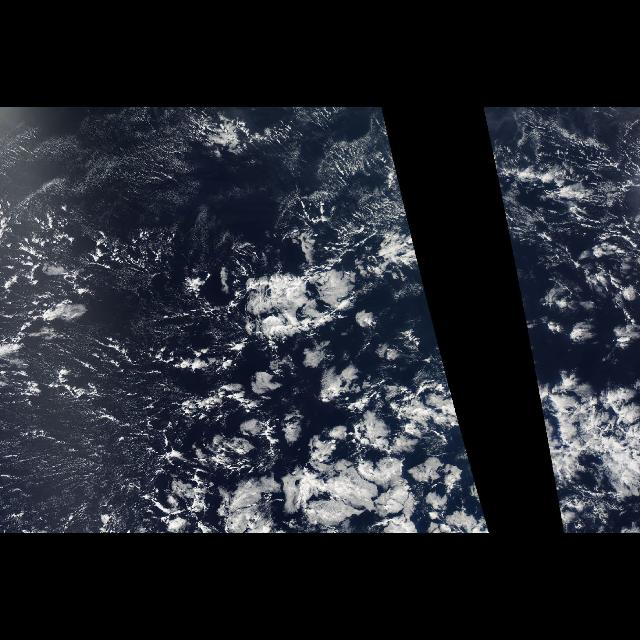Flower: (196, 249, 490, 533), (510, 253, 624, 529)
Sugar: (0, 108, 414, 530), (483, 124, 549, 242)
